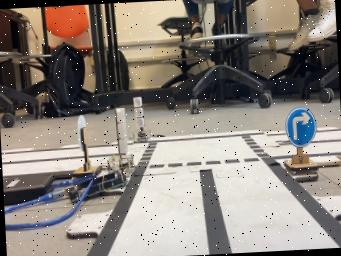right: (283, 107, 318, 181)
street: (102, 129, 341, 256), (1, 147, 84, 175), (306, 127, 341, 159), (88, 144, 117, 165)
traffic_light: (108, 107, 134, 176), (132, 96, 151, 142)
